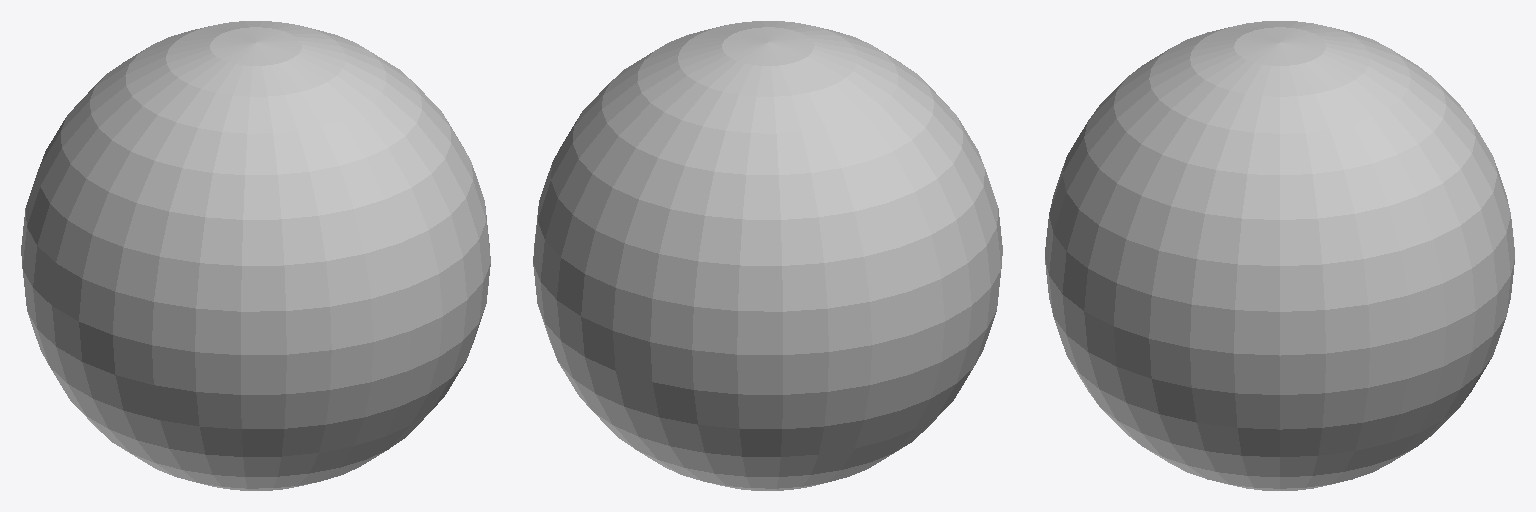
Rendered from kula_zaplonu.obj.
The picture shows the model from 3 angles: view 1: azimuth 30°, elevation 25°; view 2: azimuth 150°, elevation 25°; view 3: azimuth 270°, elevation 25°; orthographic projection.
Visible parts, largest first — view 1: Sphere; view 2: Sphere; view 3: Sphere.
Boxes of the visible parts, x1=… form: Sphere: x1=21, y1=21, x2=490, y2=490; Sphere: x1=533, y1=21, x2=1002, y2=490; Sphere: x1=1045, y1=21, x2=1514, y2=490.
Size of the model in its own units: 0.5 by 0.5 by 0.5.